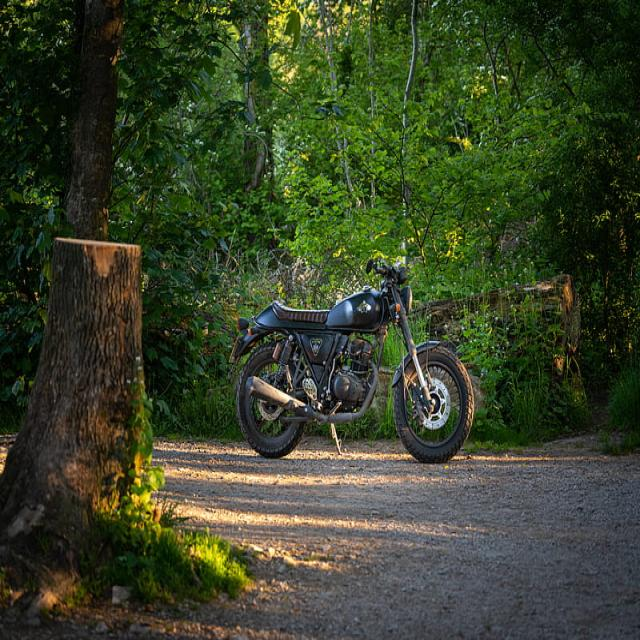Bike: (230, 255, 478, 467)
